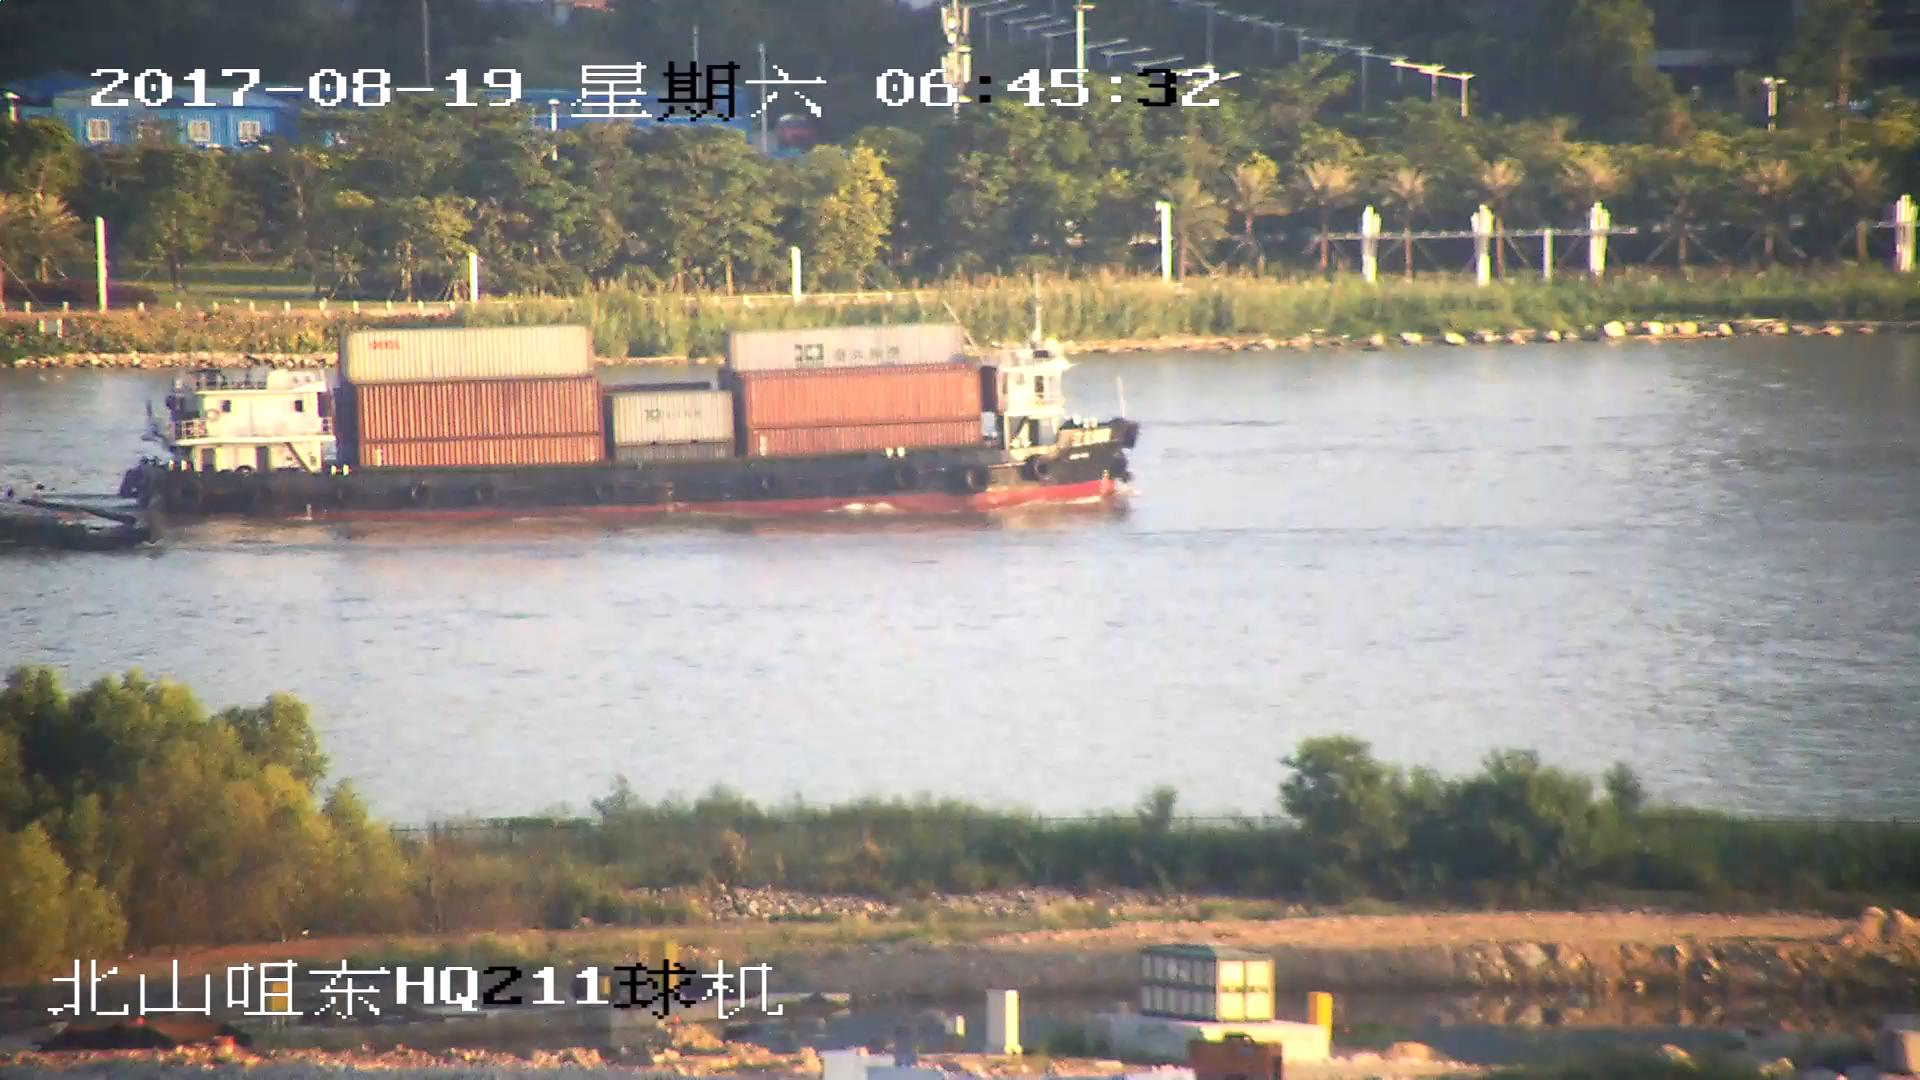container ship: (115, 318, 1130, 524)
fishing boat: (1, 517, 156, 561)
